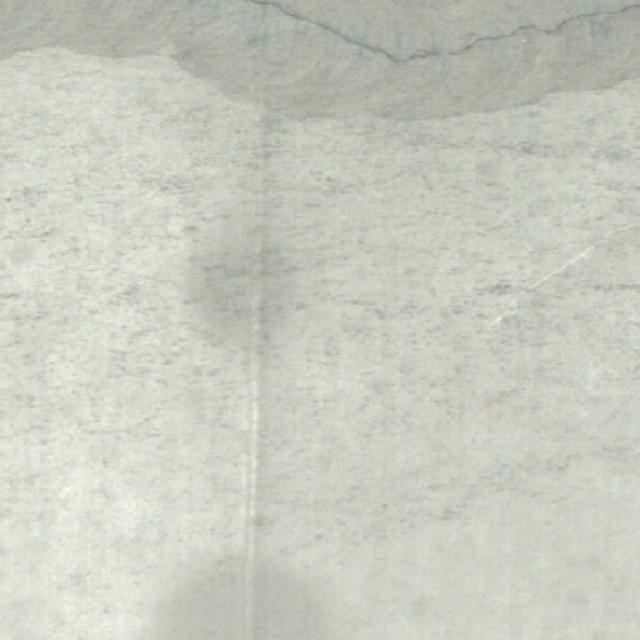Radial: (468, 266, 640, 352)
Transverse: (226, 0, 640, 79)
